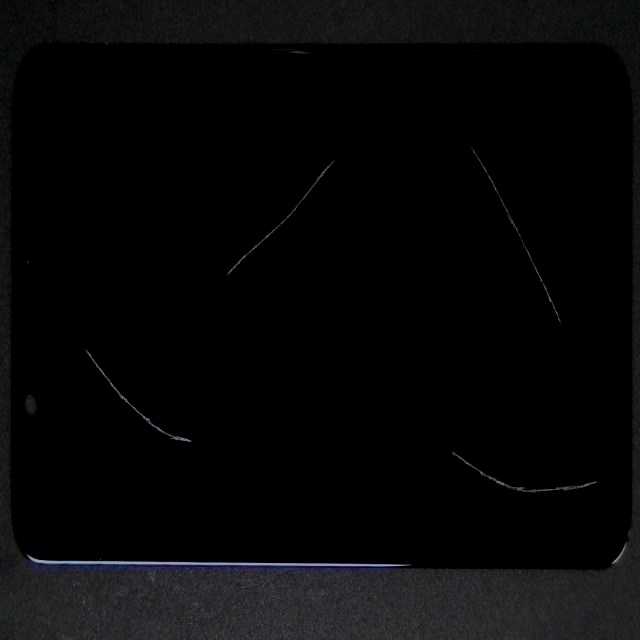scratch: (232, 9, 453, 268), (344, 263, 640, 393), (149, 266, 238, 588)
